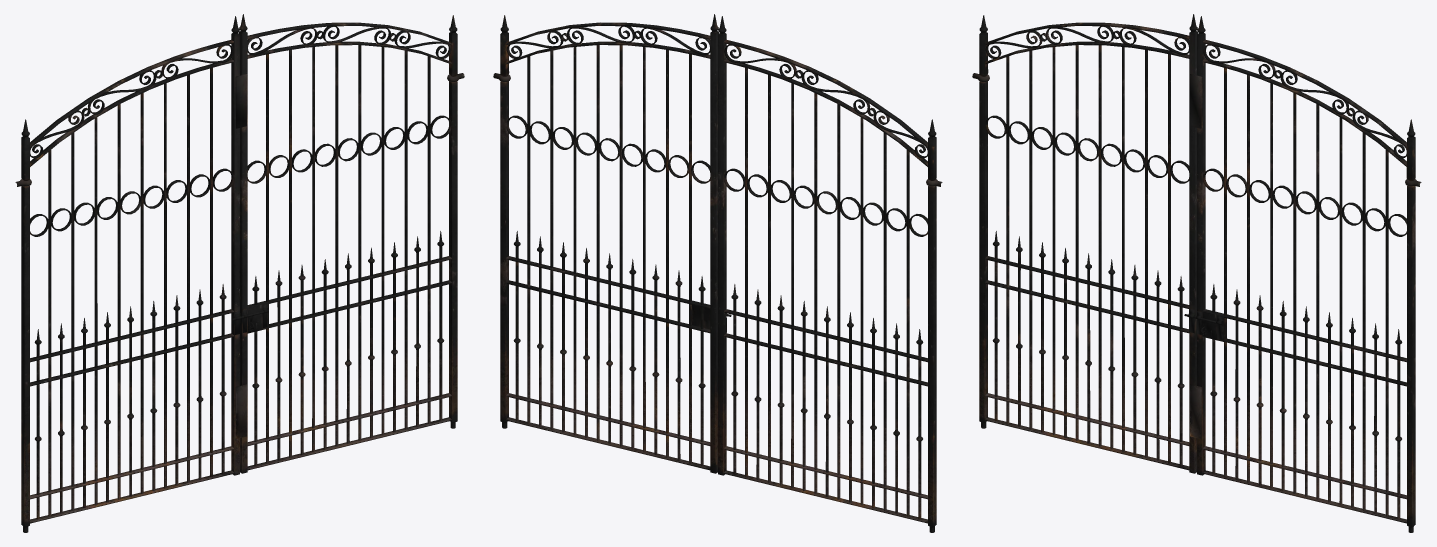
Rendered from large_iron_gate.glb.
The picture shows the model from 3 angles, left to right: view 1: azimuth 30°, elevation 25°; view 2: azimuth 150°, elevation 25°; view 3: azimuth 330°, elevation 25°; orthographic projection.
Visible parts, largest first — view 1: large_iron_gate_right_door, large_iron_gate_left_door; view 2: large_iron_gate_left_door, large_iron_gate_right_door; view 3: large_iron_gate_right_door, large_iron_gate_left_door.
Part boxes in pixels (x1=…): large_iron_gate_right_door: x1=235, y1=14, x2=457, y2=473; large_iron_gate_left_door: x1=21, y1=16, x2=241, y2=532; large_iron_gate_left_door: x1=718, y1=16, x2=936, y2=532; large_iron_gate_right_door: x1=500, y1=14, x2=718, y2=473; large_iron_gate_right_door: x1=1190, y1=16, x2=1415, y2=532; large_iron_gate_left_door: x1=979, y1=14, x2=1197, y2=473.
Bounding box in the file's own units: 2.95 × 2.93 × 0.0973.
1 material, 1 textured.
